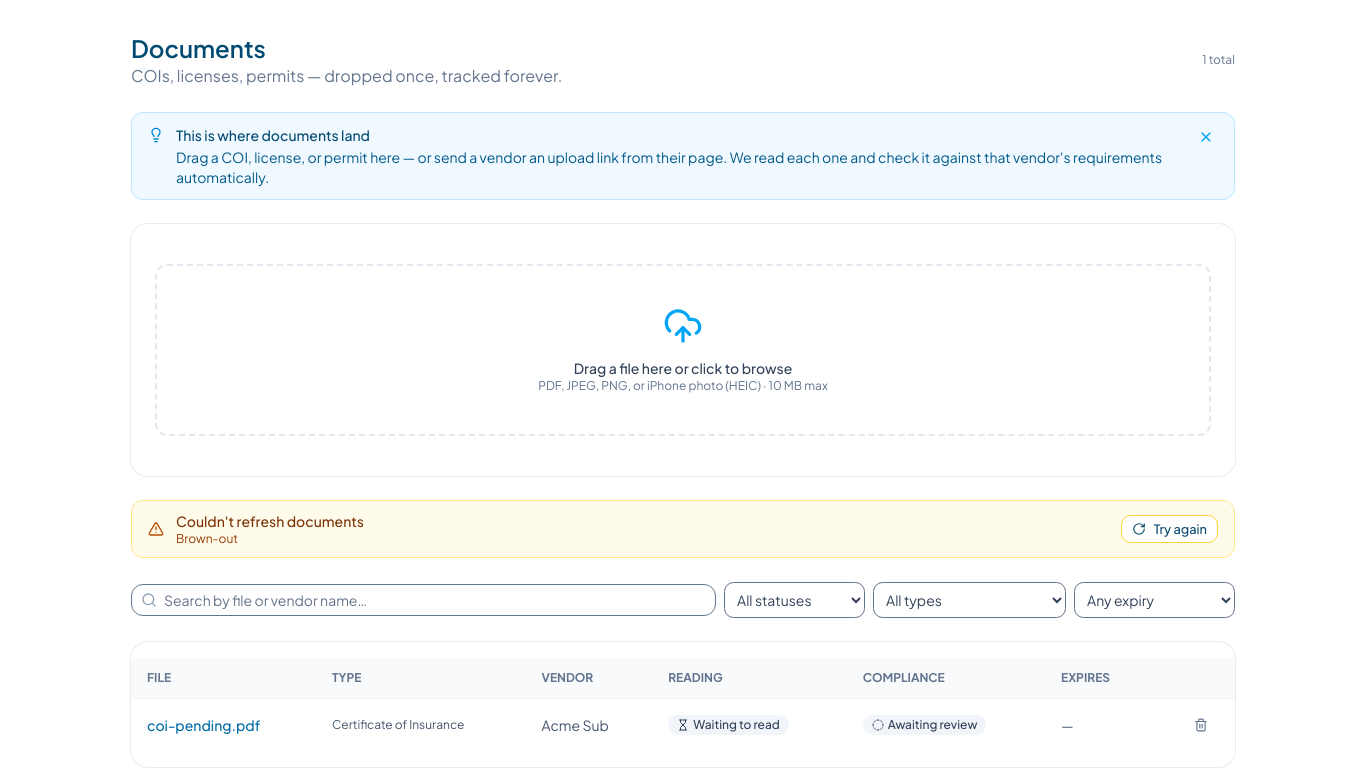
Test: DocumentsPage — state matrix (#36) › stale-banner dismisses after a successful Try-again refetch (#97)
Expected: the link "coi-pending.pdf" is shown, [147,716,260,734]
Expected: the message shows "Couldn't refresh documents", [131,500,1235,558]
// Click Try again — the banner's Retry affordance.
Click the button "Try again": click(1169, 529) [1121,515,1218,543]
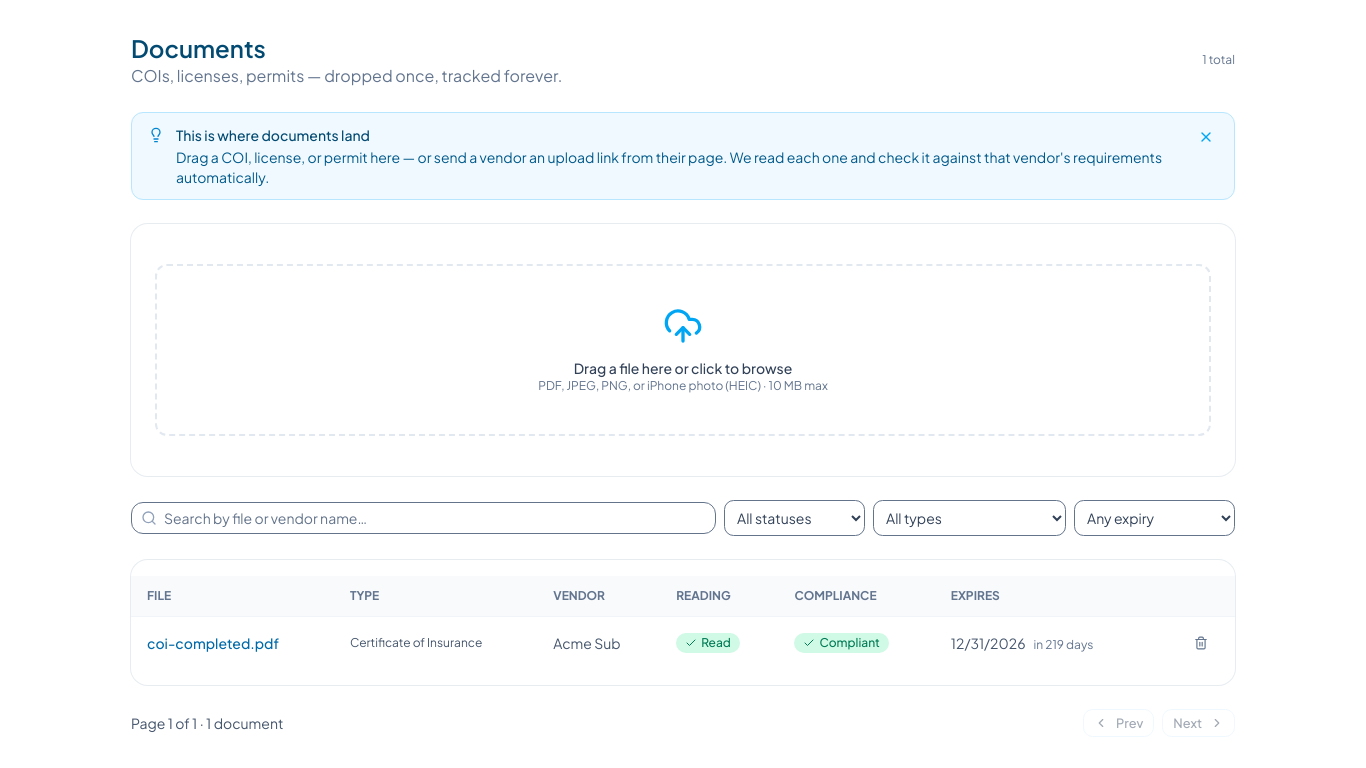
Expected: the link "coi-completed.pdf" is shown, [147,634,279,652]
Expected: the link "coi-pending.pdf" is gone
Expected: the message "Couldn't refresh documents Brown-out Try again" is gone
